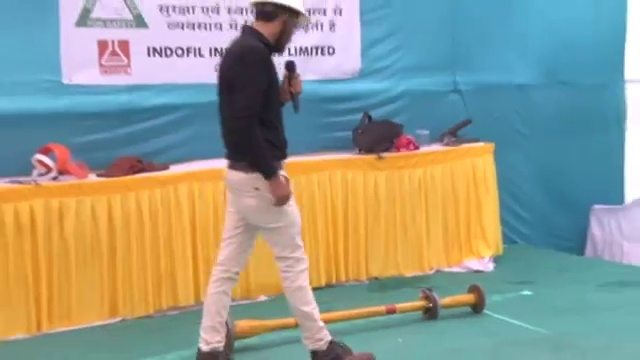helmet: (249, 1, 312, 21)
helmet_on: (246, 1, 312, 53)
person: (196, 2, 371, 360)
